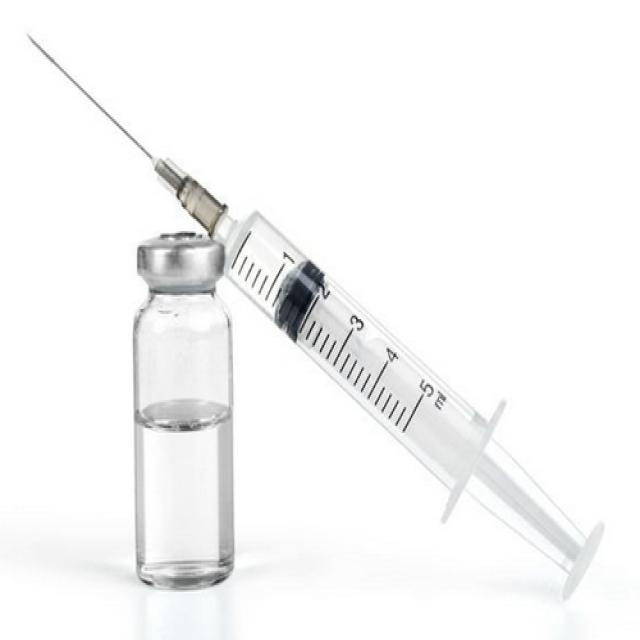B3: (113, 221, 257, 605)
